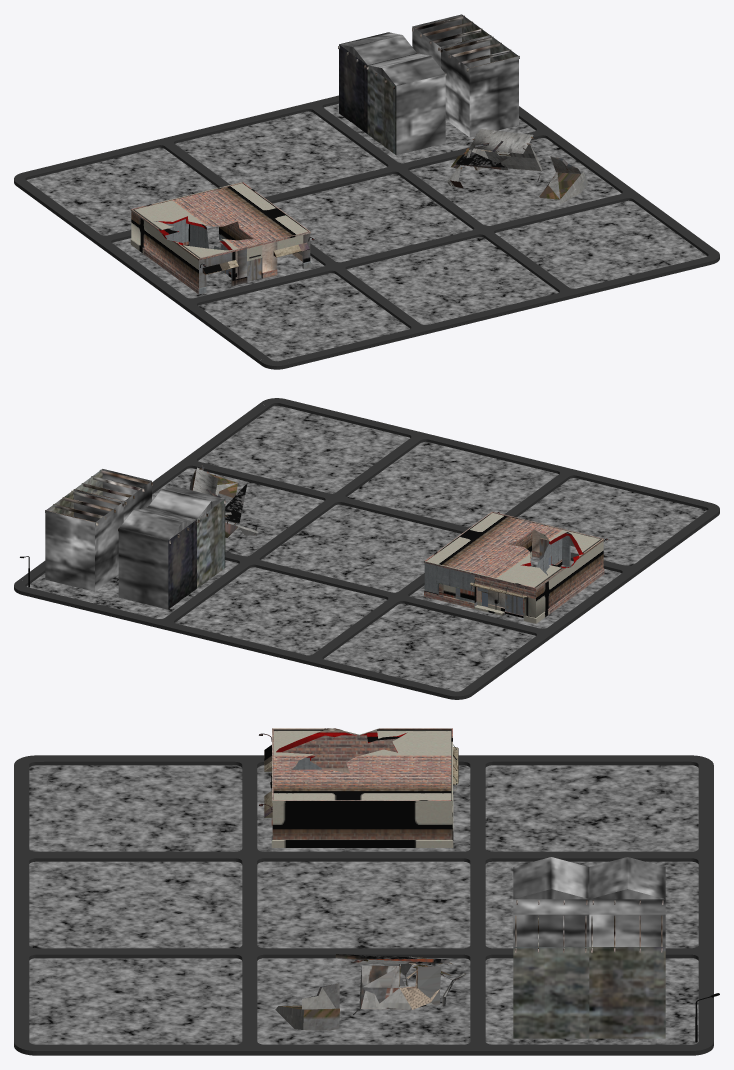
3 views of the same model, one above another, from view 1: azimuth 30°, elevation 25°; view 2: azimuth 150°, elevation 25°; view 3: azimuth 270°, elevation 25° (orthographic). The views are drawn at different scales.
Parts seen in each view (by area): view 1: RuinedBuilding_01_Ruined_0.001; view 2: RuinedBuilding_01_Ruined_0.001; view 3: RuinedBuilding_01_Ruined_0.001.
Part boxes in pixels (x1,y1,x2,y2): RuinedBuilding_01_Ruined_0.001: (14,14,719,369); RuinedBuilding_01_Ruined_0.001: (14,398,719,699); RuinedBuilding_01_Ruined_0.001: (14,728,719,1055).
Size of the model in its own units: 32.09 by 6.45 by 32.37.
1 material, 1 textured.
